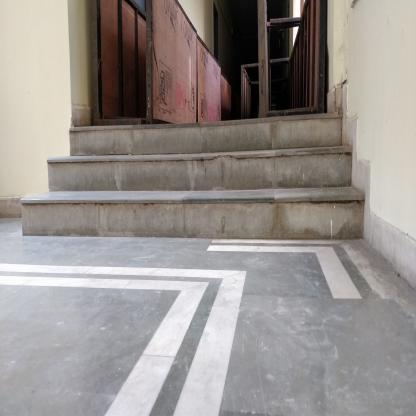stairs: (81, 117, 331, 246)
